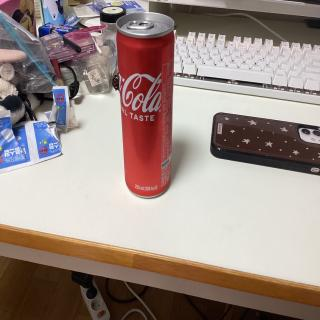cocacola: (114, 7, 181, 201)
